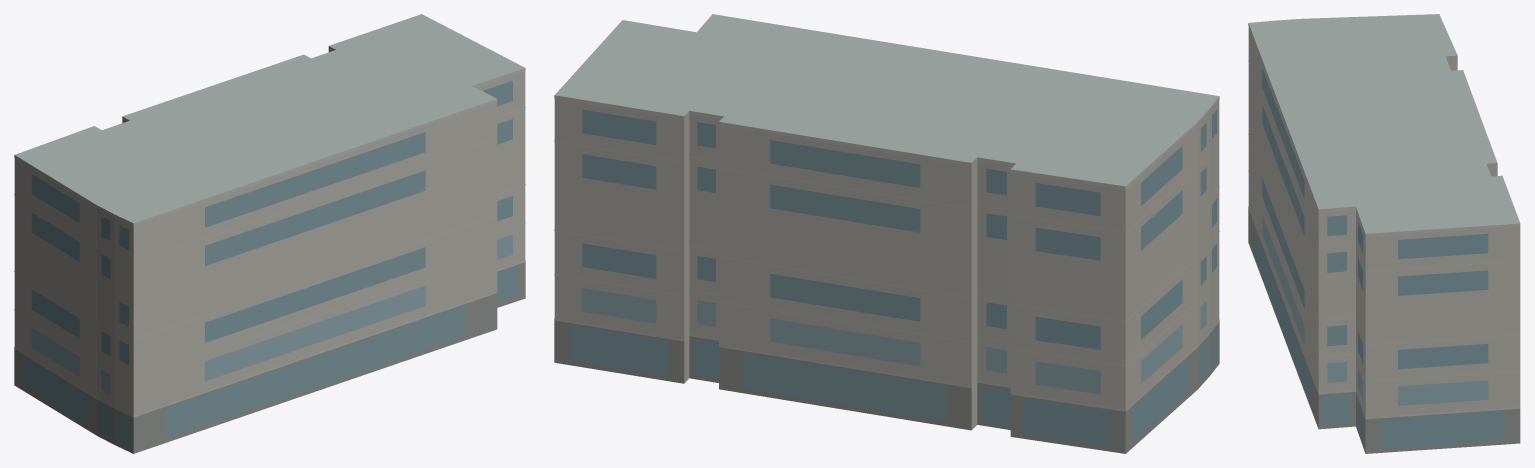
The model's file is survey-upis-32910114.glb.
3 renders of one model, left to right at view 1: azimuth 30°, elevation 25°; view 2: azimuth 150°, elevation 25°; view 3: azimuth 270°, elevation 25°, orthographic. The views are drawn at different scales.
Parts seen in each view (by area): view 1: survey-upis-32910114.tmp; view 2: survey-upis-32910114.tmp; view 3: survey-upis-32910114.tmp.
Part boxes in pixels (<box>): survey-upis-32910114.tmp: <box>14,14,525,453</box>; survey-upis-32910114.tmp: <box>554,14,1219,453</box>; survey-upis-32910114.tmp: <box>1248,14,1520,453</box>.
Size of the model in its own units: 39.26 by 18.3 by 20.52.
